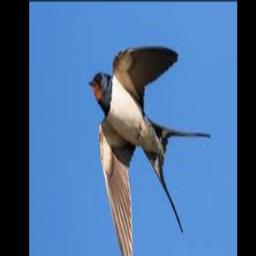Swallow: (89, 45, 210, 256)
